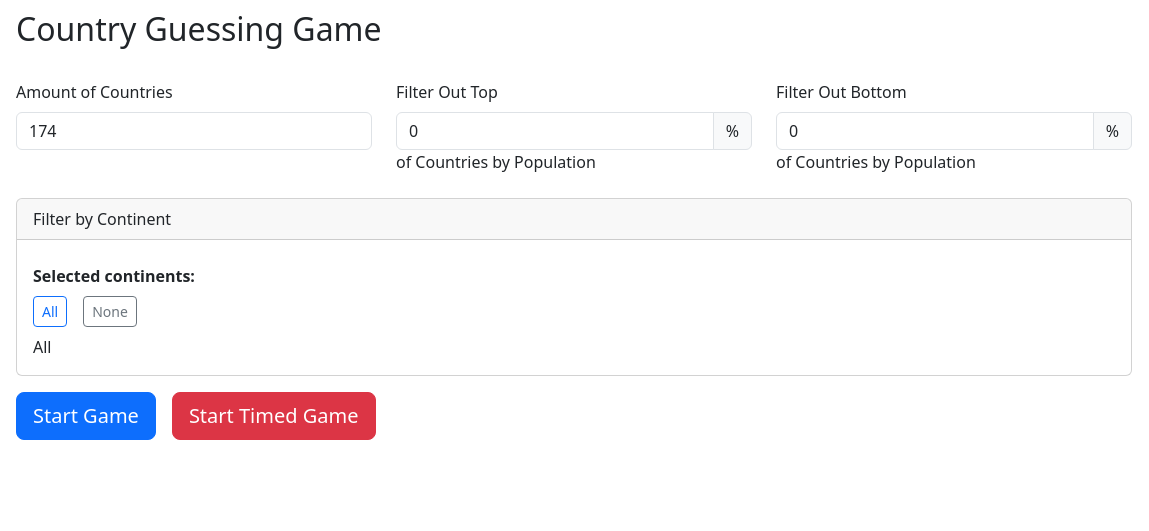
Test: Game Component › shows error for invalid bottom filter percentage
Replace the text in the number field labelled "Filter Out Bottom" with "-1": (935, 131) x1=776 y1=112 x2=1094 y2=150
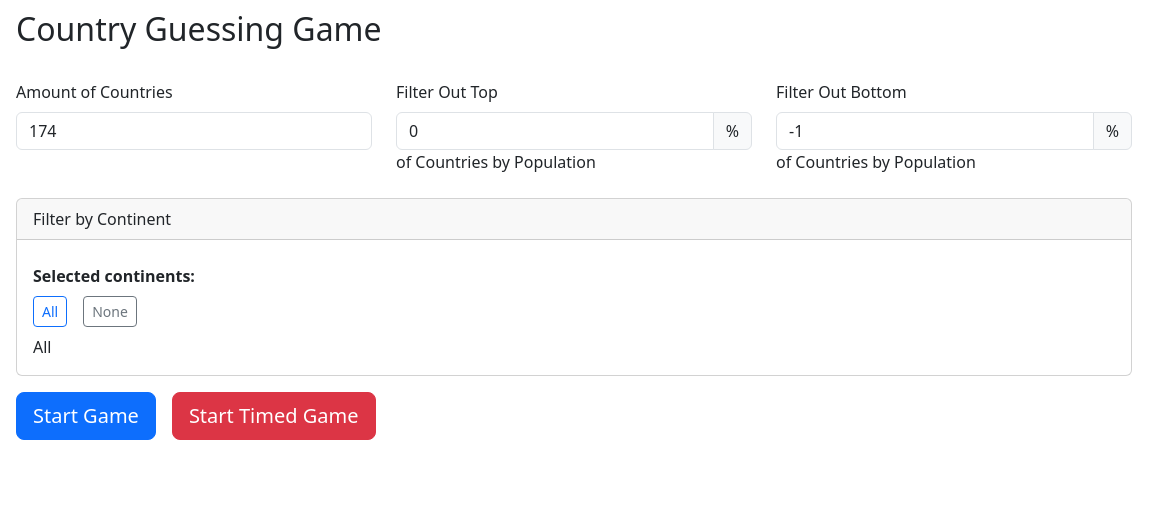
Click the button "Start Game": (86, 416) x1=16 y1=392 x2=156 y2=440
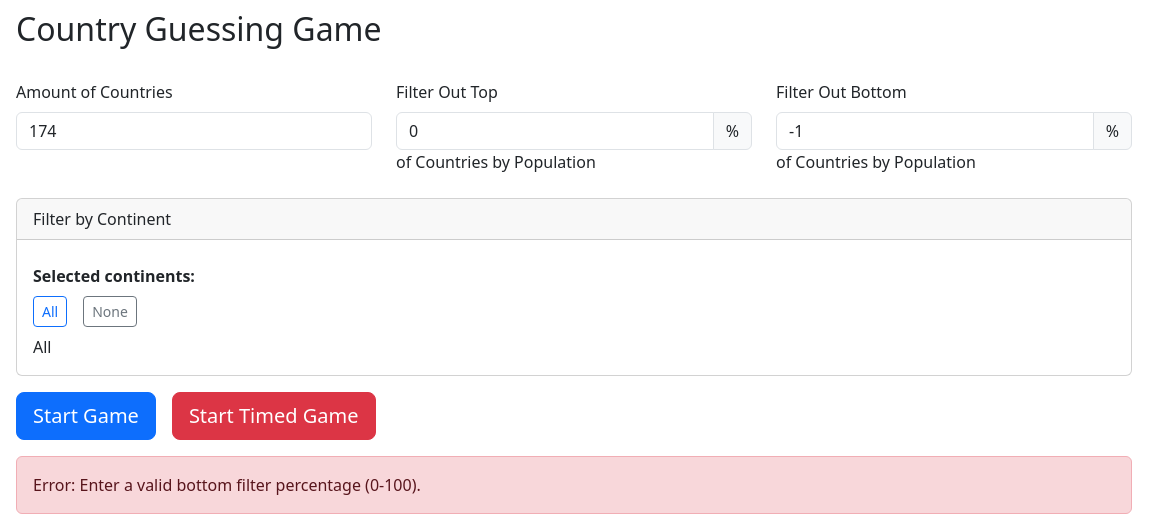
Expected: the text "Error: Enter a valid bottom filter percentage (0-100)." is shown, x1=16 y1=456 x2=1132 y2=514
